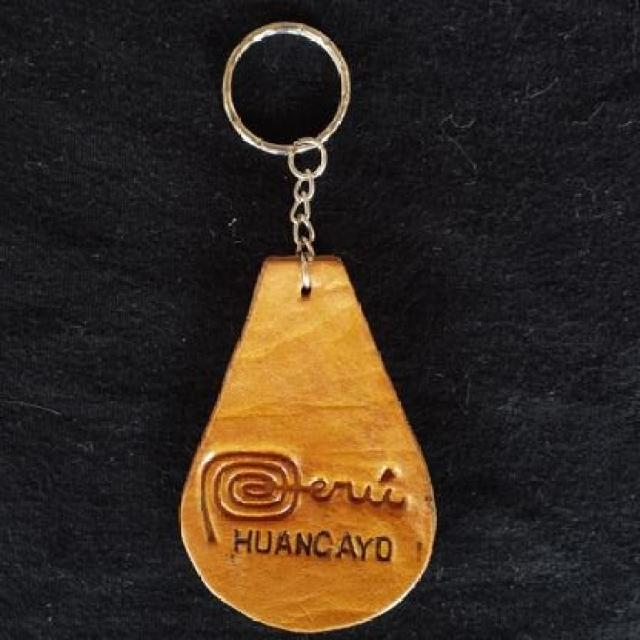Llavero: (177, 252, 438, 634)
